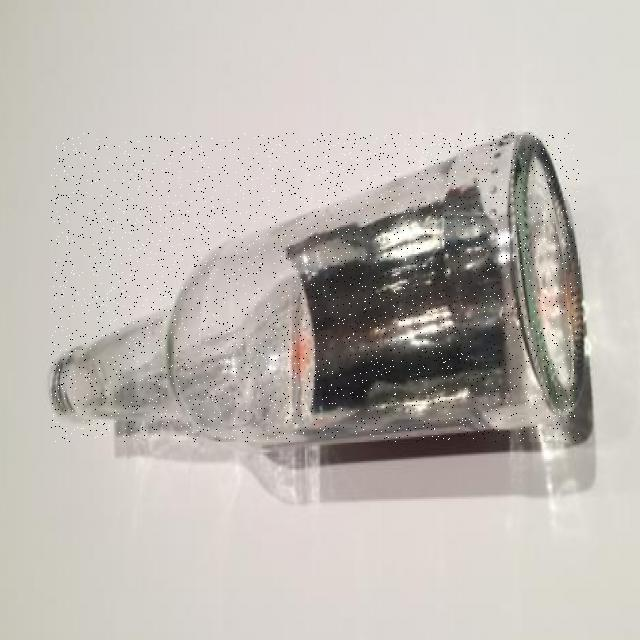glass: (51, 133, 579, 441)
